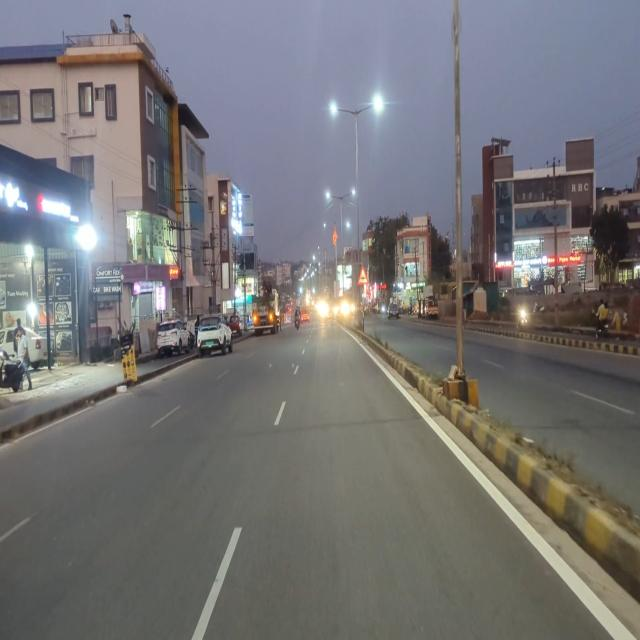bien_cam: (357, 265, 369, 285)
